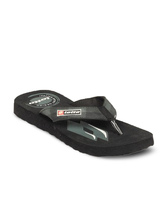shoes: (6, 79, 160, 157)
